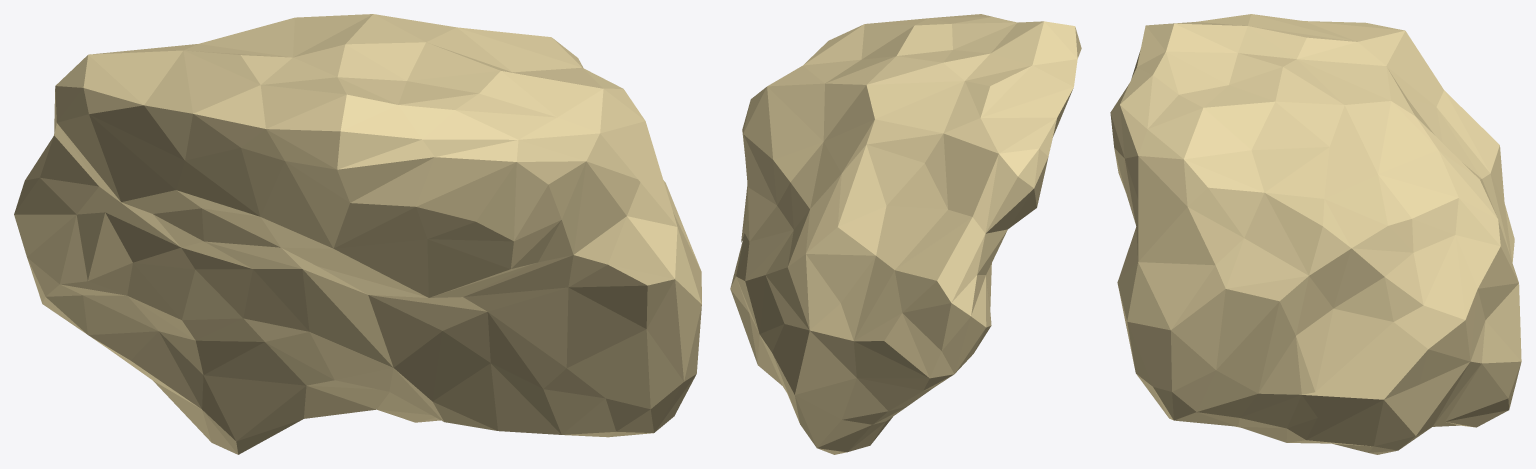
File: Asteroid (59).fbx
3 renders of one model, left to right at view 1: azimuth 30°, elevation 25°; view 2: azimuth 150°, elevation 25°; view 3: azimuth 270°, elevation 25°, orthographic. The views are drawn at different scales.
Visible parts, largest first — view 1: Asteroid122; view 2: Asteroid122; view 3: Asteroid122.
Boxes of the visible parts, x1,y1,x2,y2 form: Asteroid122: (14,14,701,454); Asteroid122: (730,14,1081,454); Asteroid122: (1110,14,1521,454).
Size of the model in its own units: 203 by 199 by 201.
